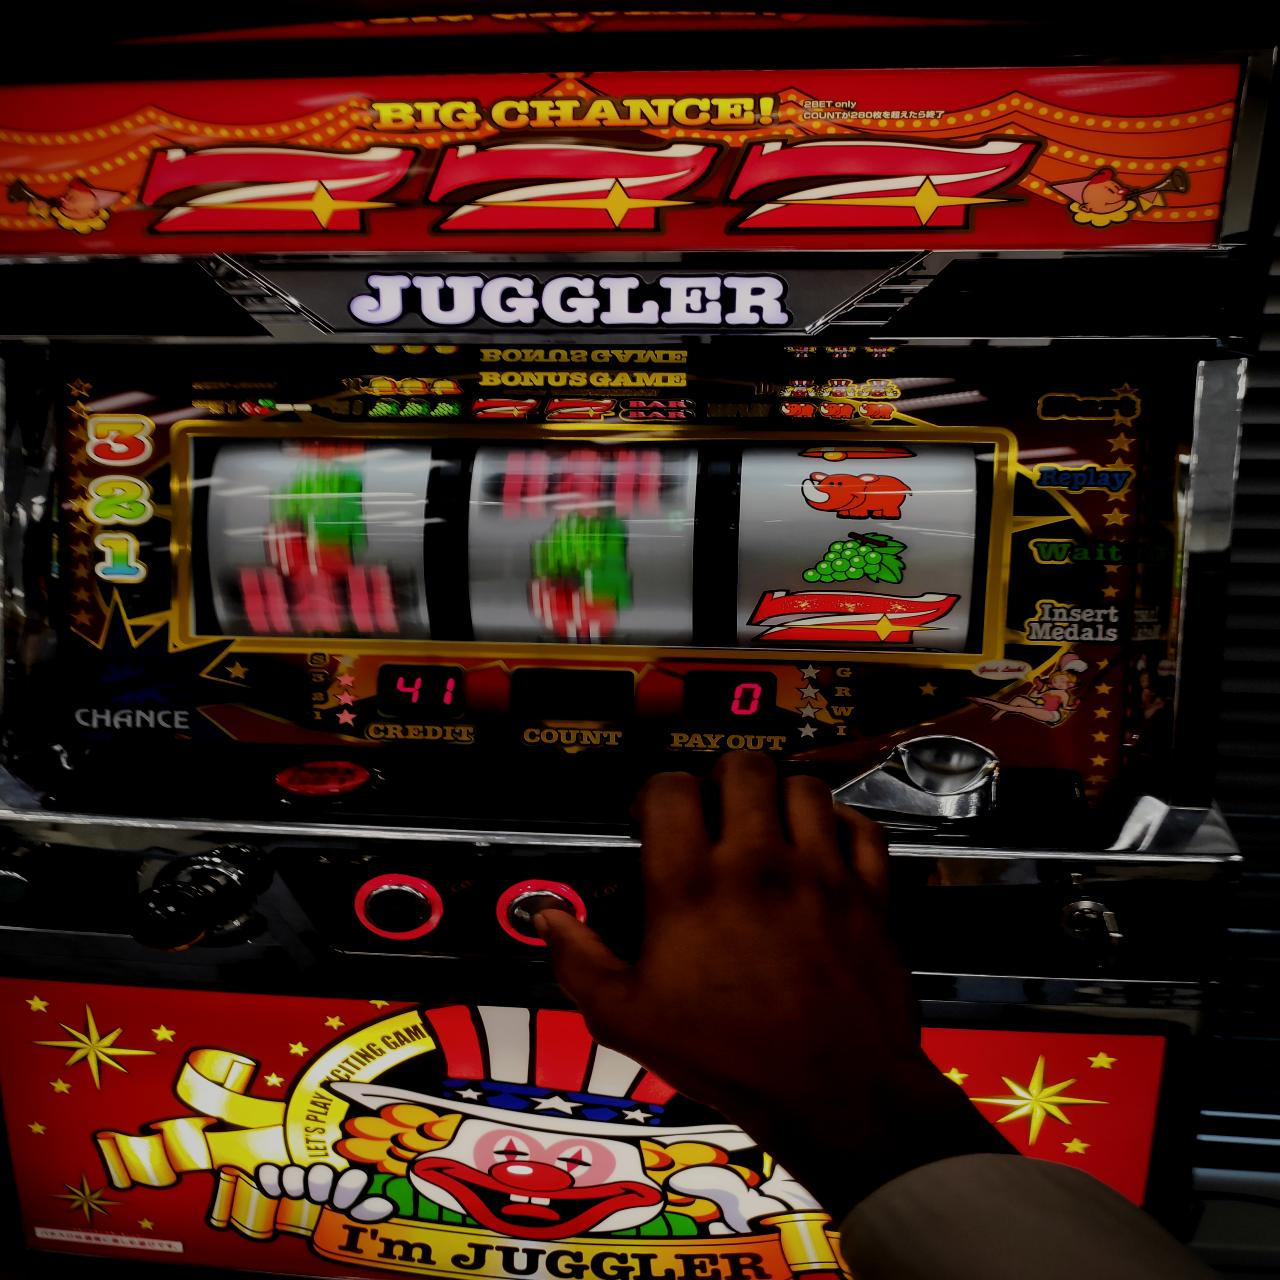7: (749, 590, 965, 646)
8: (795, 471, 912, 518)
grape: (803, 532, 906, 584)
rhino: (185, 424, 993, 652)
